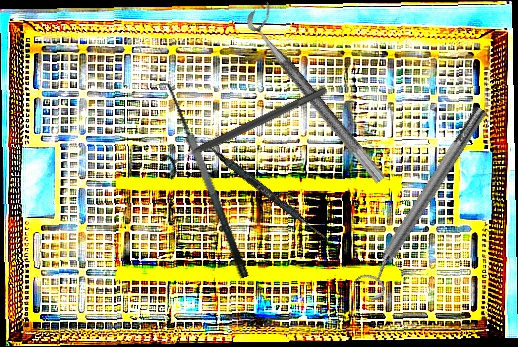Fixation Ring: (348, 100, 499, 304), (242, 0, 400, 185), (158, 76, 333, 182)
Spatula Surgical: (151, 77, 250, 285), (196, 137, 334, 245)
